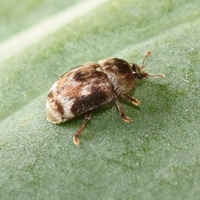insect: (46, 51, 164, 145)
